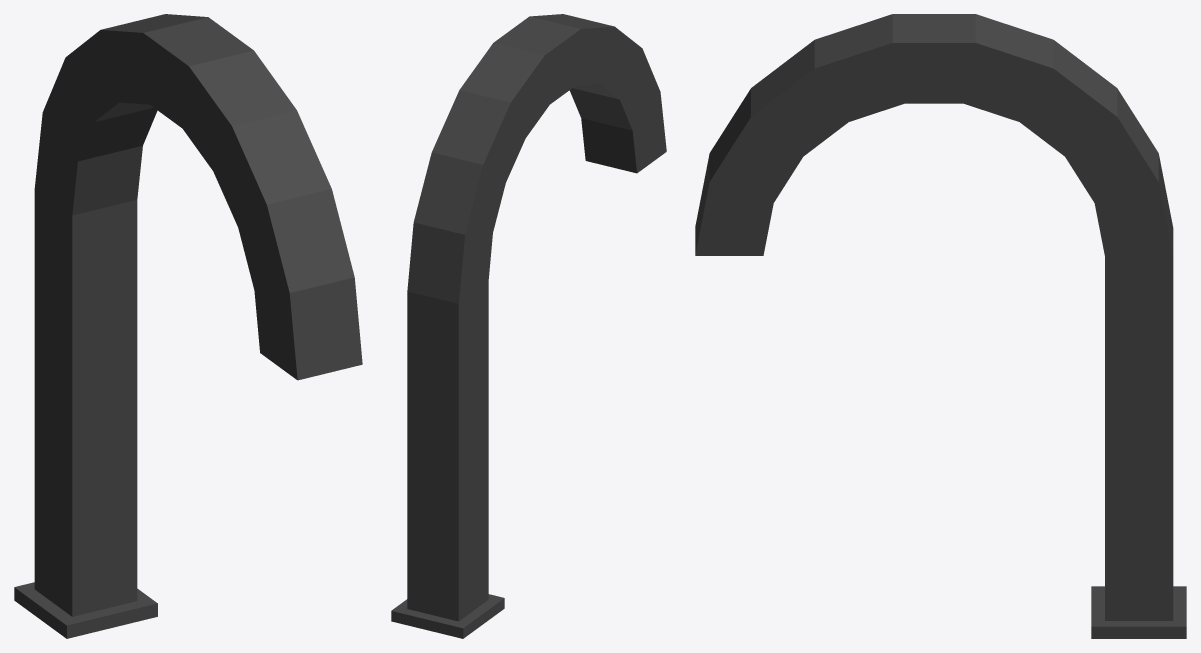
The model's file is Plumbing1_C1_02.fbx.
The picture shows the model from 3 angles, left to right: view 1: azimuth 30°, elevation 25°; view 2: azimuth 150°, elevation 25°; view 3: azimuth 270°, elevation 25°; orthographic projection. The views are drawn at different scales.
Visible parts, largest first — view 1: Plumbing1_C1_02; view 2: Plumbing1_C1_02; view 3: Plumbing1_C1_02.
Part boxes in pixels (bbox=[...]): Plumbing1_C1_02: bbox=[14, 14, 362, 638]; Plumbing1_C1_02: bbox=[391, 14, 666, 638]; Plumbing1_C1_02: bbox=[695, 14, 1186, 638].
Size of the model in its own units: 2.59 by 17.66 by 13.33.
